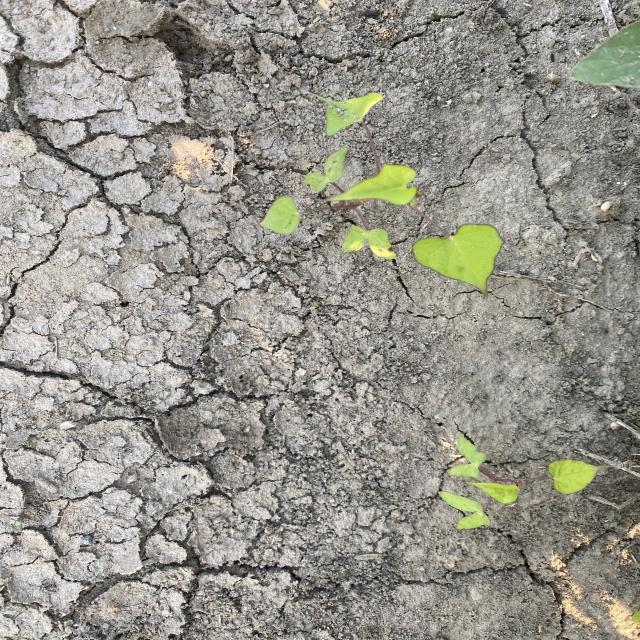MorningGlory: (258, 88, 508, 300), (435, 429, 606, 532)
